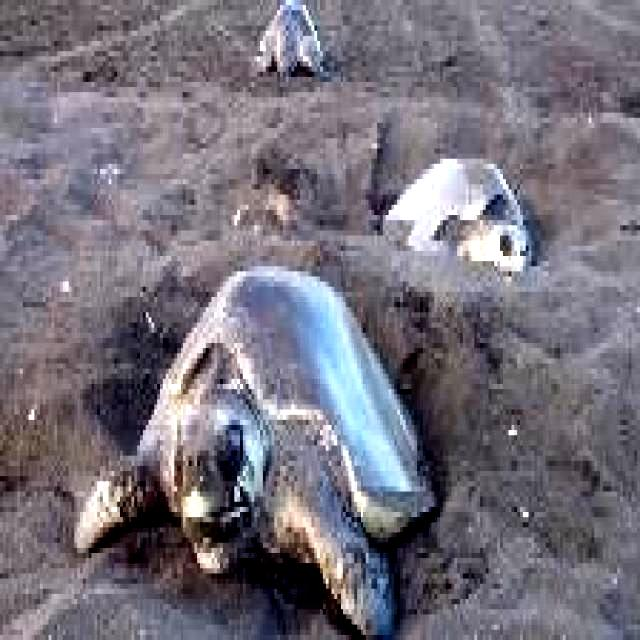Sea turtle: (76, 247, 430, 640), (377, 150, 547, 284), (242, 0, 328, 72)
